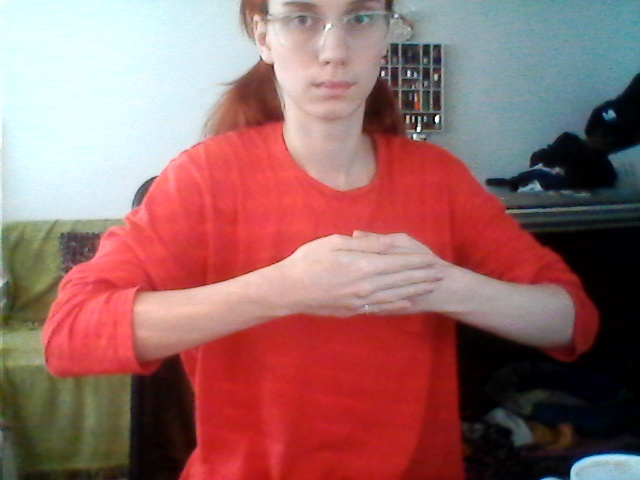dvere: (280, 221, 456, 335)
